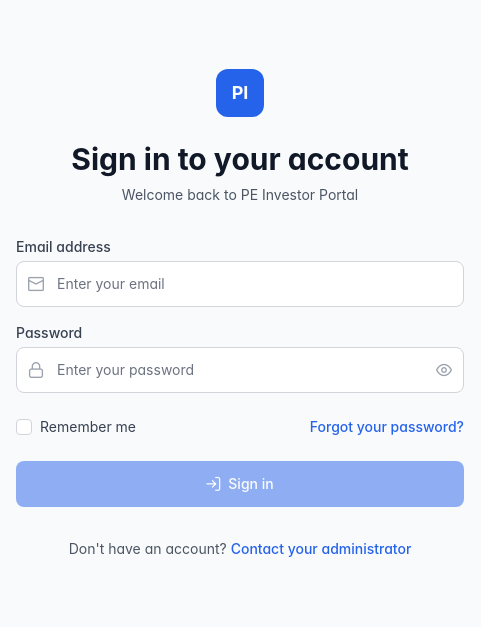
Test case: LoginView › Login Flow › should display error message on failed login
# Fill in form
Type "test@example.com" into the field with id "email" at (240,284), box [16,261,464,307]
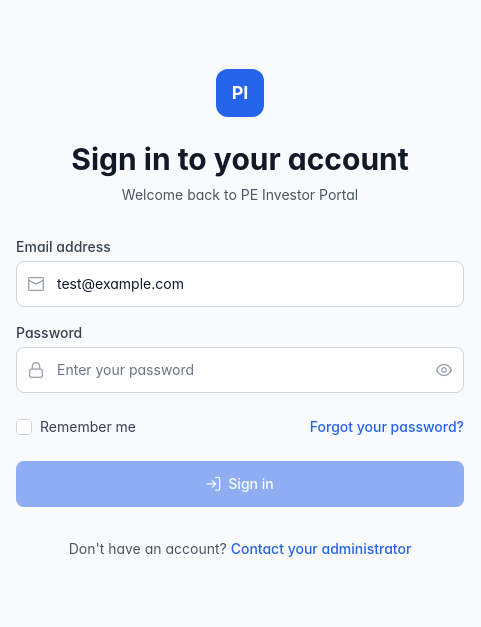
Type "wrongpassword" into the password field labelled "Password" at (240,370), box [16,347,464,393]
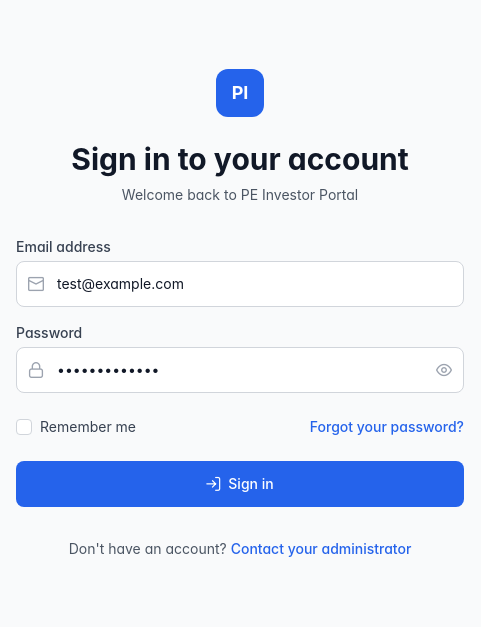
# Submit form
Submit the form, box [16,237,464,507]
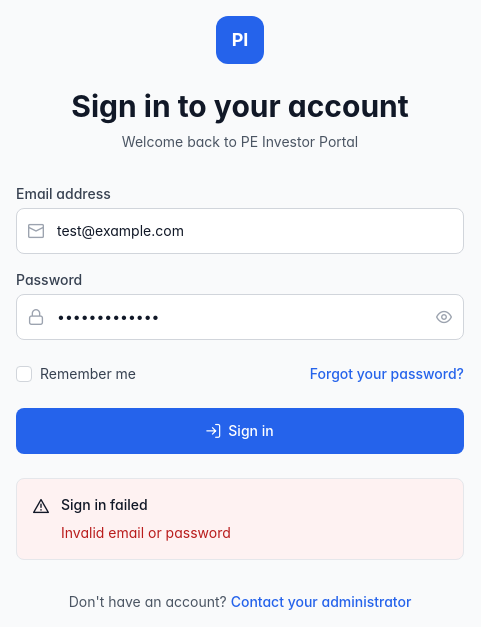
Result: the text "Sign in failed" is shown at [61,496,148,513]
Result: the text "Invalid email or password" is shown at [61,523,231,543]
